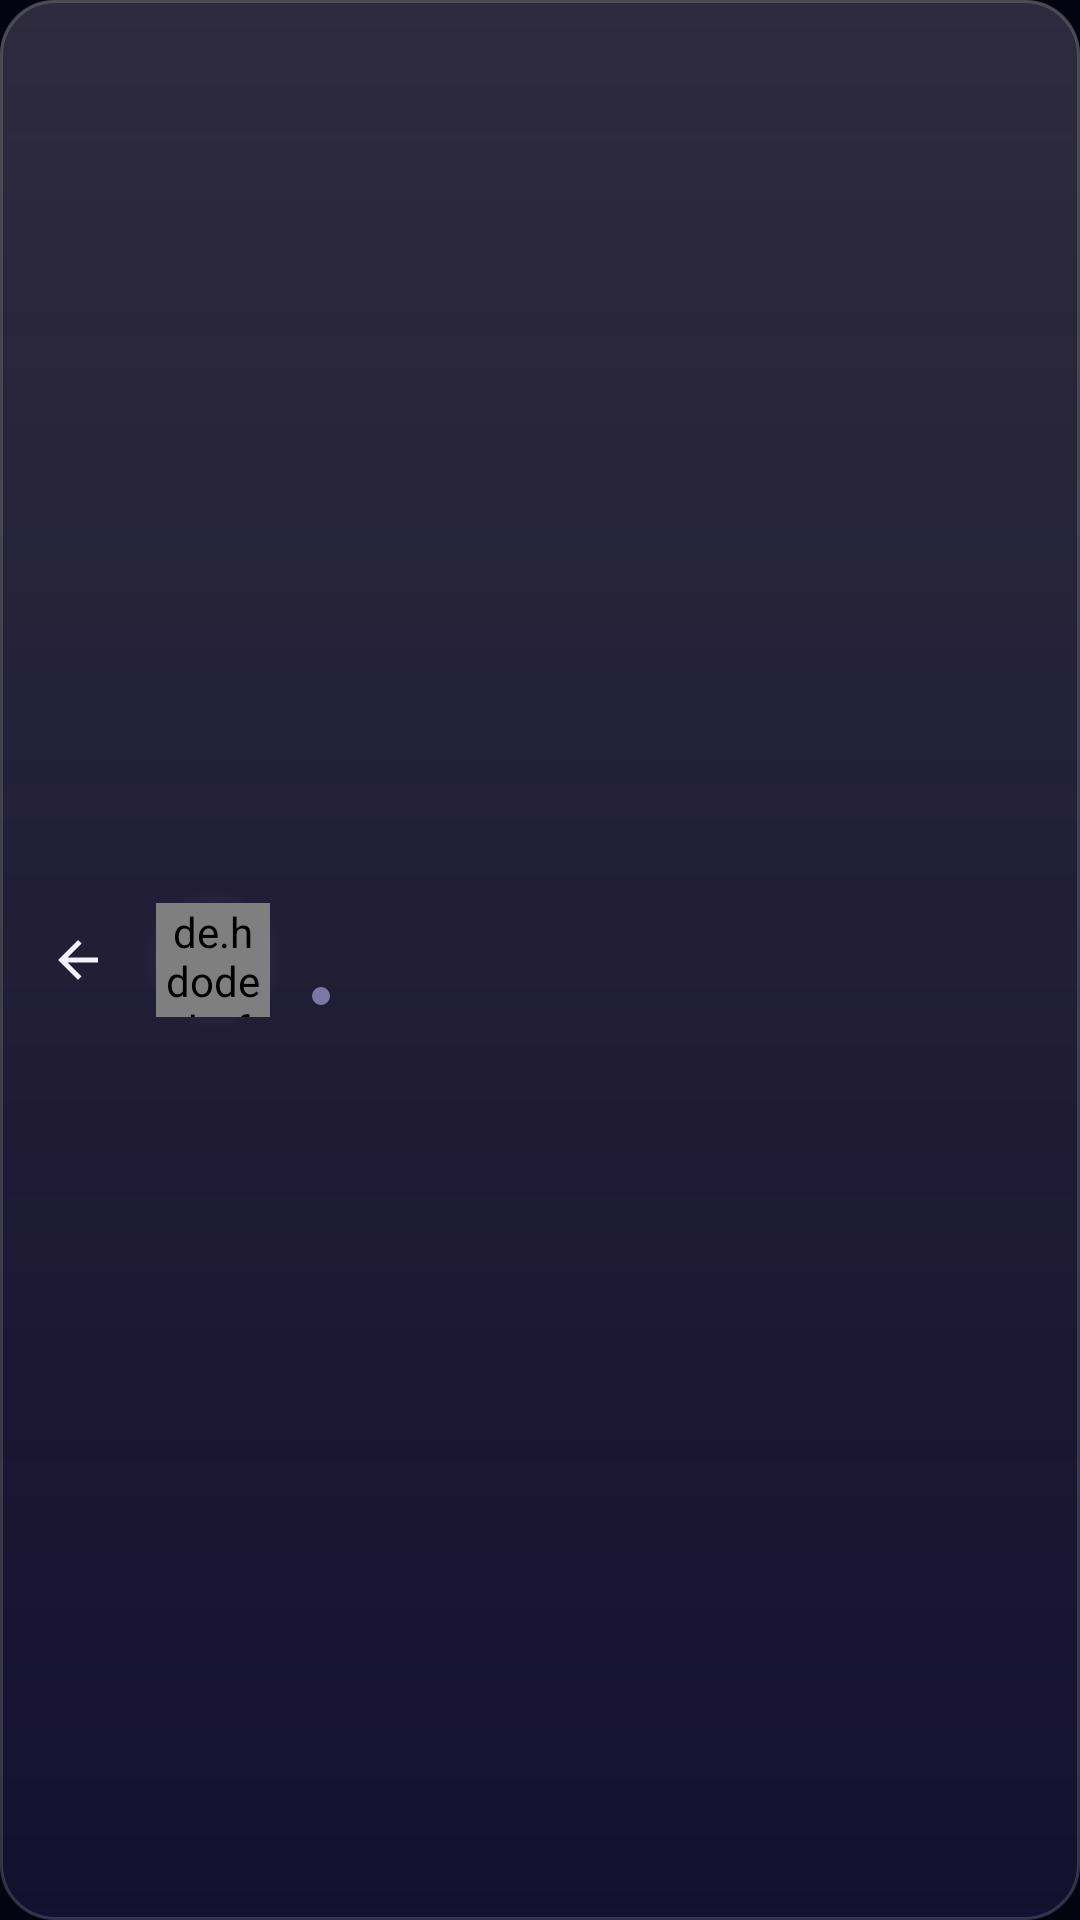

Locate icon controls on the screen. Image size 1080px x 1920px, boxes as [left=x1, top=y1, right=x2, bottom=y2].
arrow back: [left=58, top=940, right=98, bottom=980]
